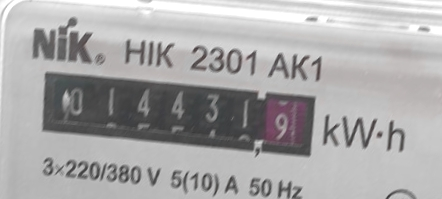0: (62, 82, 86, 118)
1: (98, 82, 121, 117), (235, 96, 252, 129)
3: (198, 91, 221, 125)
4: (129, 83, 155, 119), (164, 85, 187, 121)
9: (268, 108, 289, 141)
screen: (26, 51, 330, 176)
